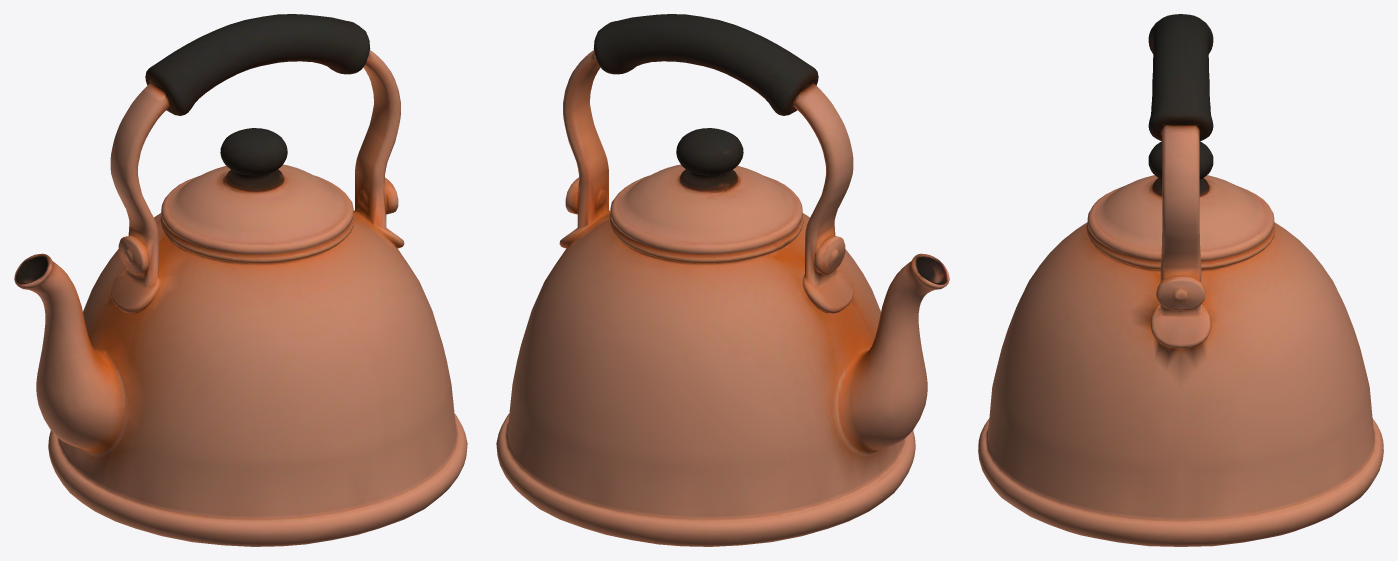
Rendered from a_copper_kettle_2460e3fd_v1.glb.
The picture shows the model from 3 angles, left to right: view 1: azimuth 30°, elevation 25°; view 2: azimuth 150°, elevation 25°; view 3: azimuth 270°, elevation 25°; orthographic projection. The views are drawn at different scales.
Visible parts, largest first — view 1: material; view 2: material; view 3: material.
Boxes of the visible parts, <box> form: material: <box>14,14,467,546</box>; material: <box>496,14,949,546</box>; material: <box>978,14,1383,546</box>.
Bounding box in the file's own units: 1.89 × 1.9 × 1.62.
1 material, 1 textured.
